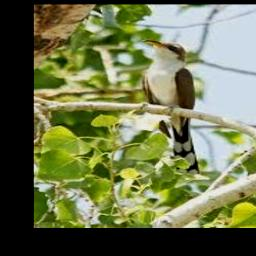Cuckoo: (141, 40, 200, 176)
